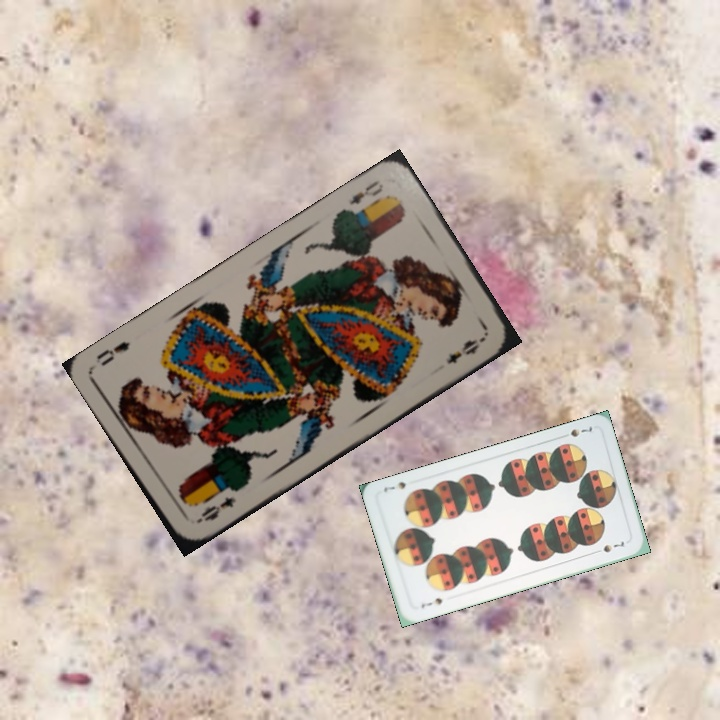EO: (192, 493, 239, 527), (345, 176, 386, 208)
S7: (556, 422, 595, 441), (417, 594, 445, 611)
